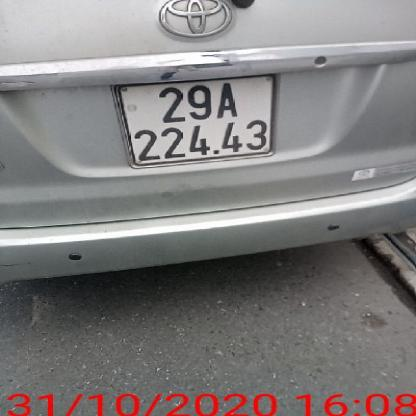biensoxe: (110, 78, 285, 165)
